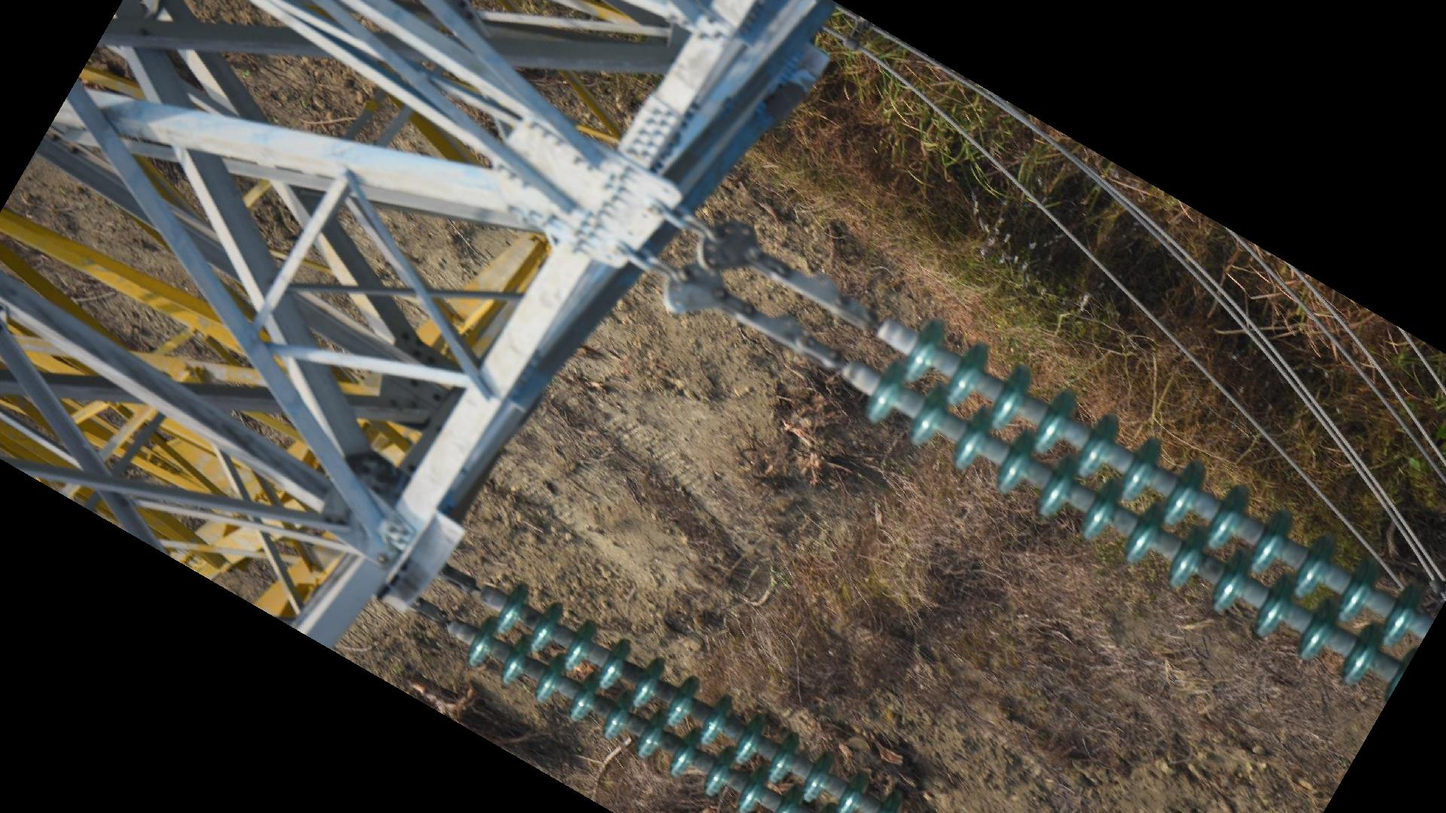insulator: (857, 316, 1428, 693), (460, 577, 907, 813)
